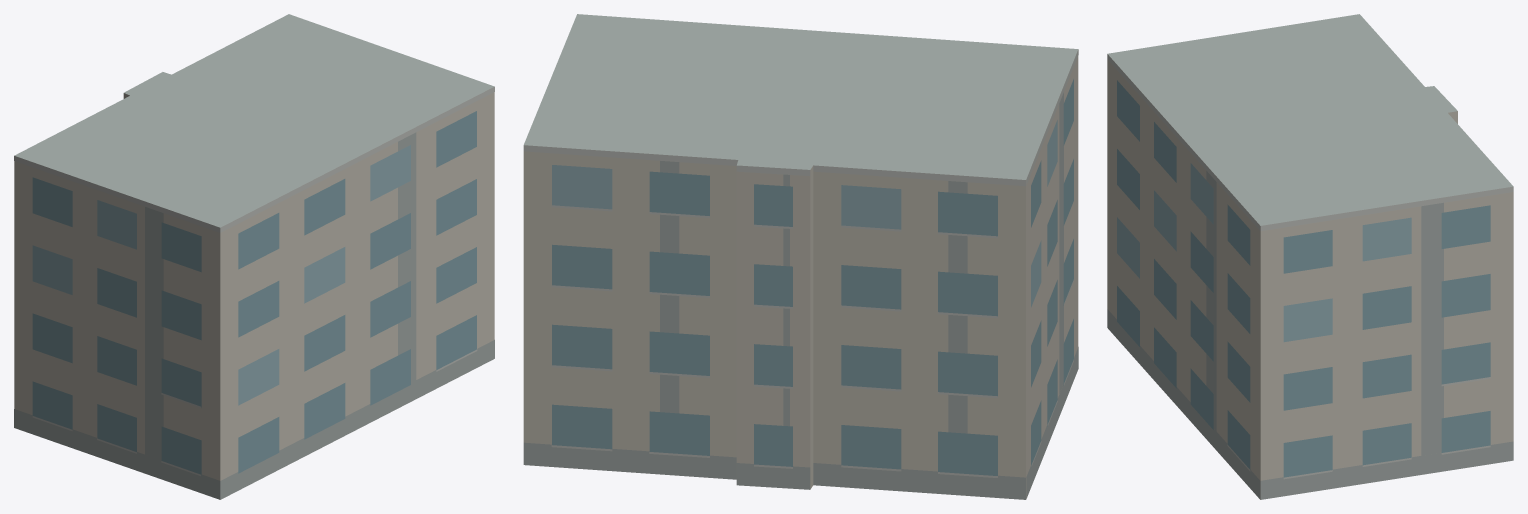
Rendered from survey-upis-32963215.glb.
The picture shows the model from 3 angles, left to right: view 1: azimuth 30°, elevation 25°; view 2: azimuth 150°, elevation 25°; view 3: azimuth 270°, elevation 25°; orthographic projection. The views are drawn at different scales.
Parts seen in each view (by area): view 1: survey-upis-32963215.tmp; view 2: survey-upis-32963215.tmp; view 3: survey-upis-32963215.tmp.
Part boxes in pixels (left/top/right/bottom): survey-upis-32963215.tmp: left=14, top=14, right=494, bottom=499; survey-upis-32963215.tmp: left=523, top=14, right=1078, bottom=499; survey-upis-32963215.tmp: left=1107, top=14, right=1513, bottom=499.
Size of the model in its own units: 20.74 by 12.5 by 16.81.
